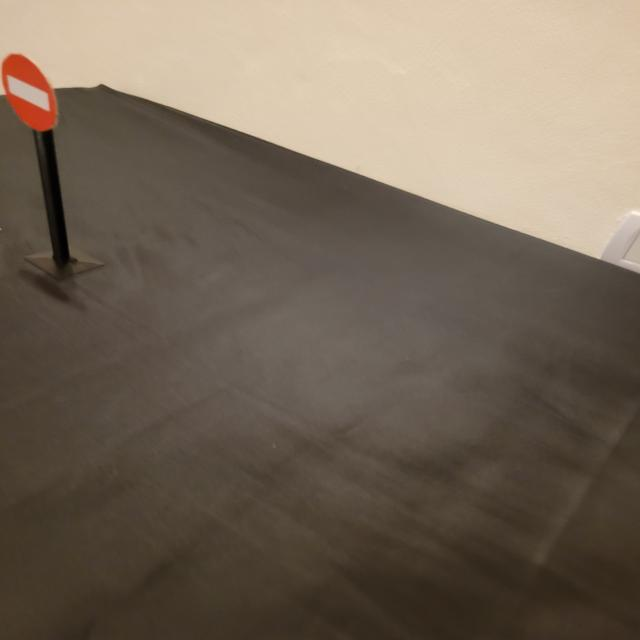no_entry: (0, 53, 60, 133)
